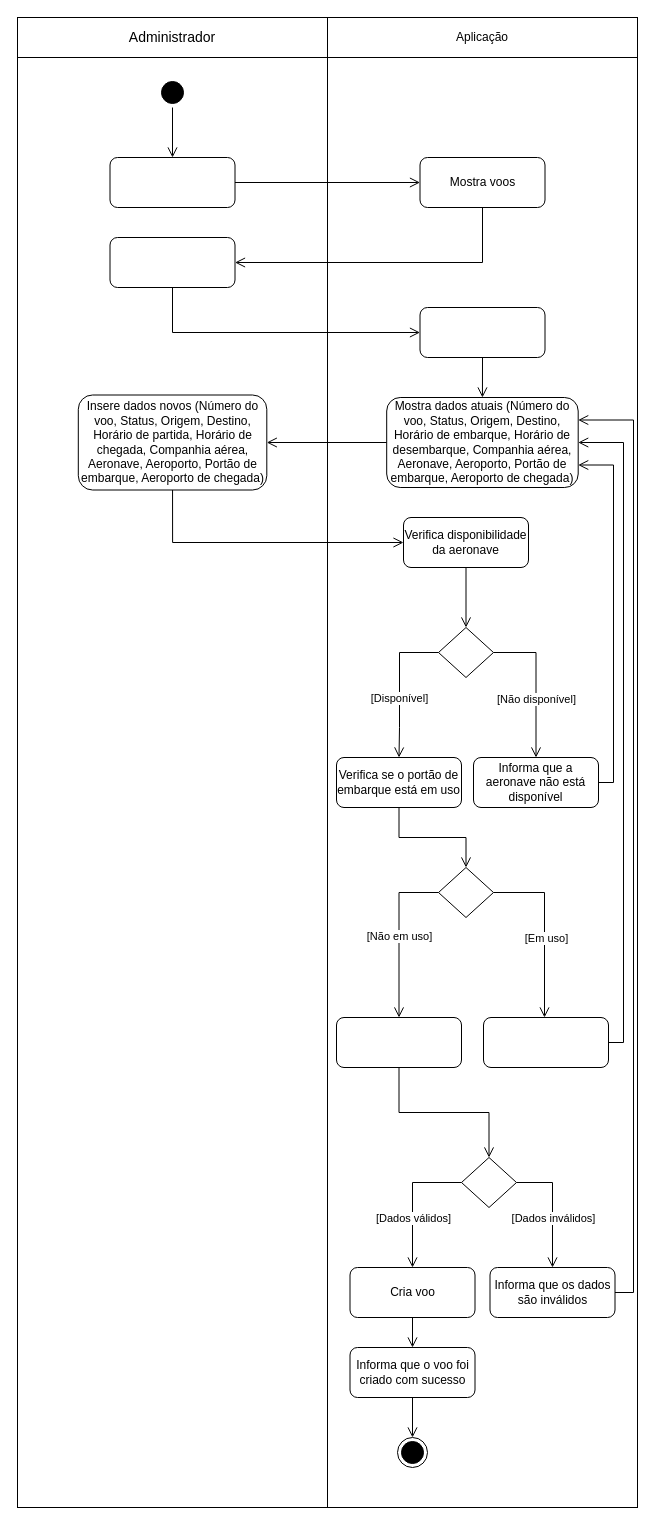
Some shapes in this 661 by 1525 pixel diagram are drawn without their labels. The centre of each missing label's shape, as x and y in pixels:
"Abre tela de editar voo" goes at point 482,332.
"Entra na tela de ver voos" goes at point 172,182.
"Informa que a portão de embarque está em uso" goes at point 545,1042.
"Seleciona editar voo" goes at point 172,262.
"Valida dados" goes at point 399,1042.
